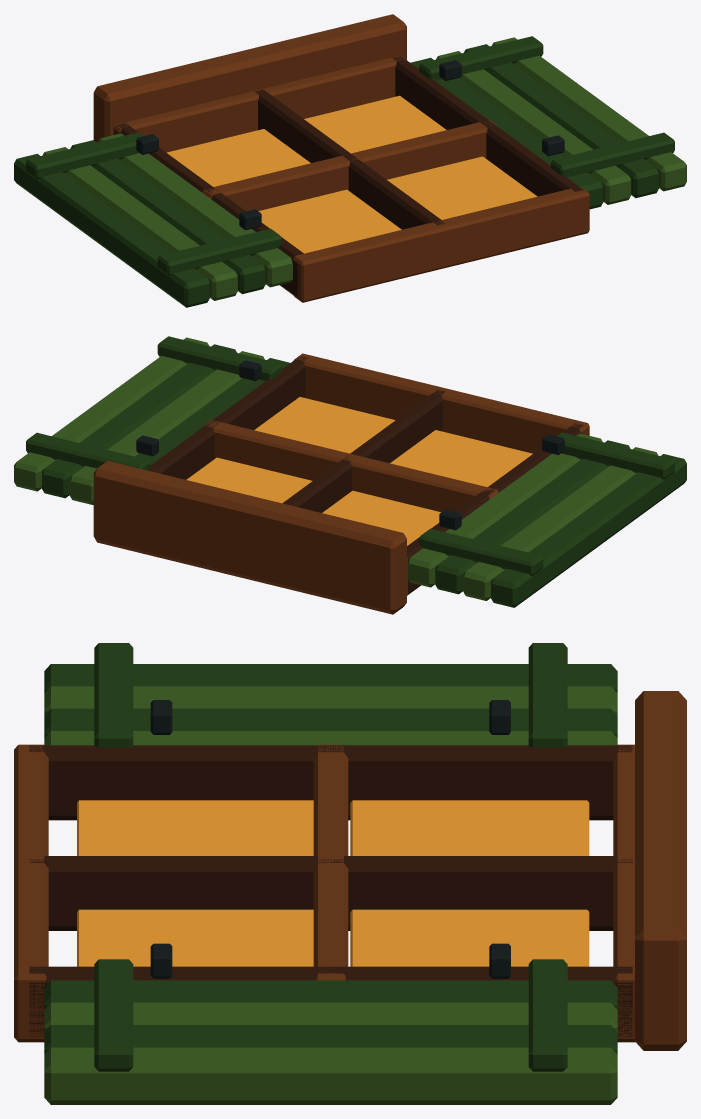
Rendered from CottageShutters.obj.
3 views of the same model, one above another, from view 1: azimuth 30°, elevation 25°; view 2: azimuth 150°, elevation 25°; view 3: azimuth 270°, elevation 25° (orthographic). The views are drawn at different scales.
Visible parts, largest first — view 1: CottageShutters; view 2: CottageShutters; view 3: CottageShutters.
Boxes of the visible parts, x1,y1,x2,y2 form: CottageShutters: (14,14,686,307); CottageShutters: (14,336,686,614); CottageShutters: (14,643,686,1104).
Size of the model in its own units: 230 by 32 by 160.
